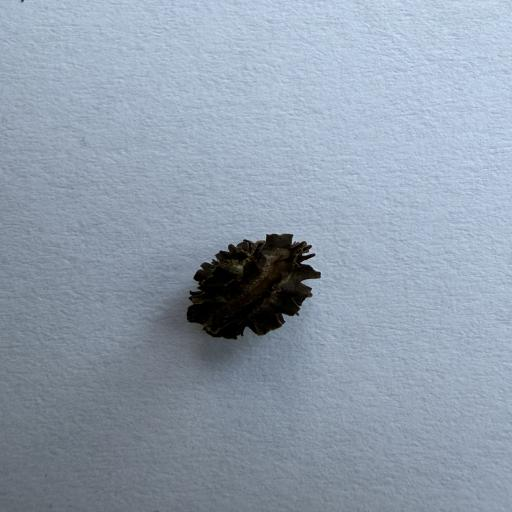papaya_seed: (181, 215, 348, 353)
